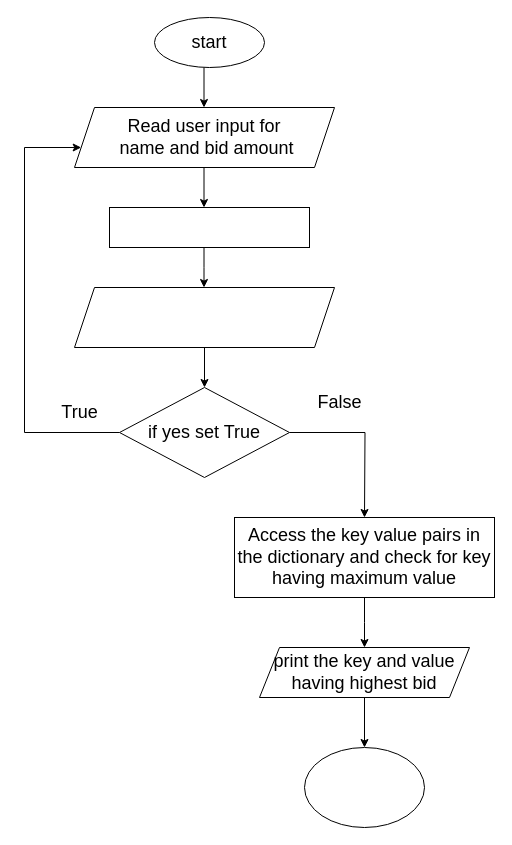
Image size: 512x845. Some labels were removed from this diagram. The shapes that lost their labels are listed below. From the top down, each one's box as (x1, y1, x2, y2) in pixels, then its label:
(108, 206, 310, 248): update the dictionary
(74, 286, 334, 348): yes for new bid no for end bidding
(304, 746, 424, 828): End
